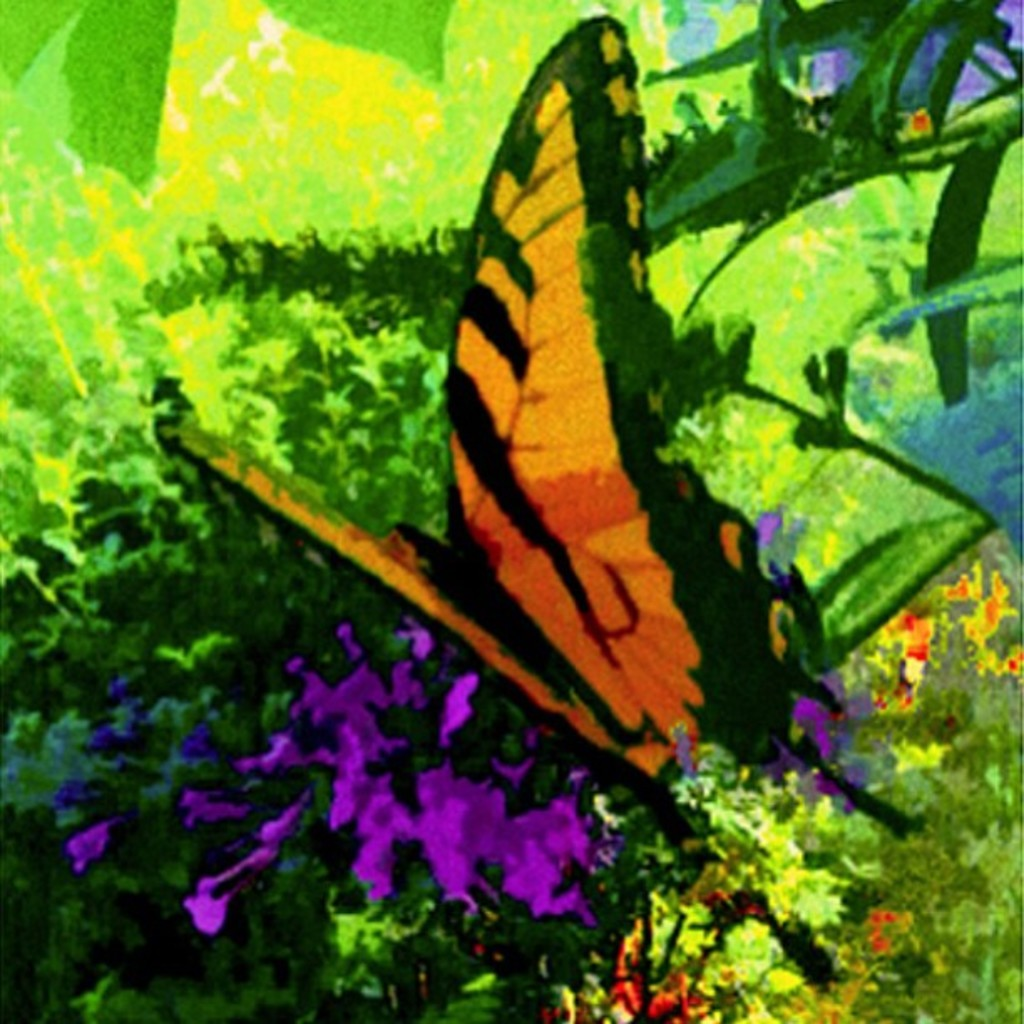Butterfly: (104, 37, 958, 941)
